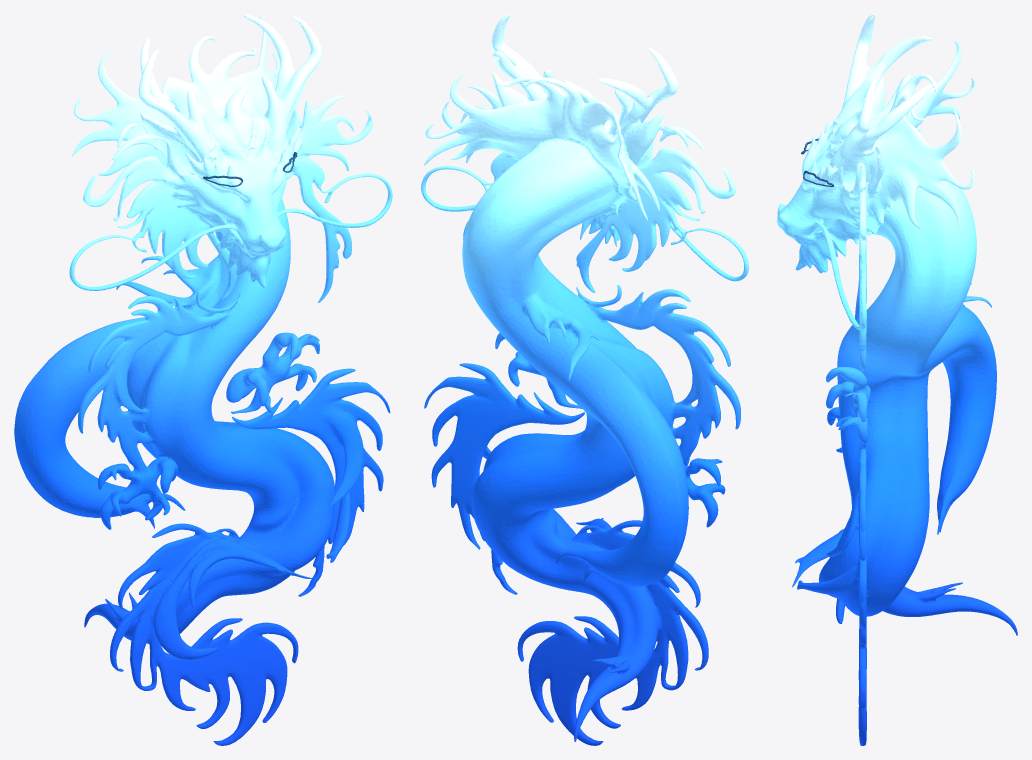
File: Aoki_Dragon_v12_AR_Material_Repair.glb
3 views of the same model, side by side, from view 1: azimuth 30°, elevation 25°; view 2: azimuth 150°, elevation 25°; view 3: azimuth 270°, elevation 25° (orthographic). The views are drawn at different scales.
Visible parts, largest first — view 1: dragon; view 2: dragon; view 3: dragon.
Boxes of the visible parts, left/top/right/bottom form: dragon: left=14, top=14, right=392, bottom=745; dragon: left=421, top=14, right=748, bottom=745; dragon: left=777, top=14, right=1017, bottom=745.
Bounding box in the file's own units: 0.9059 × 1.9 × 0.5952.
1 material, 1 textured.
